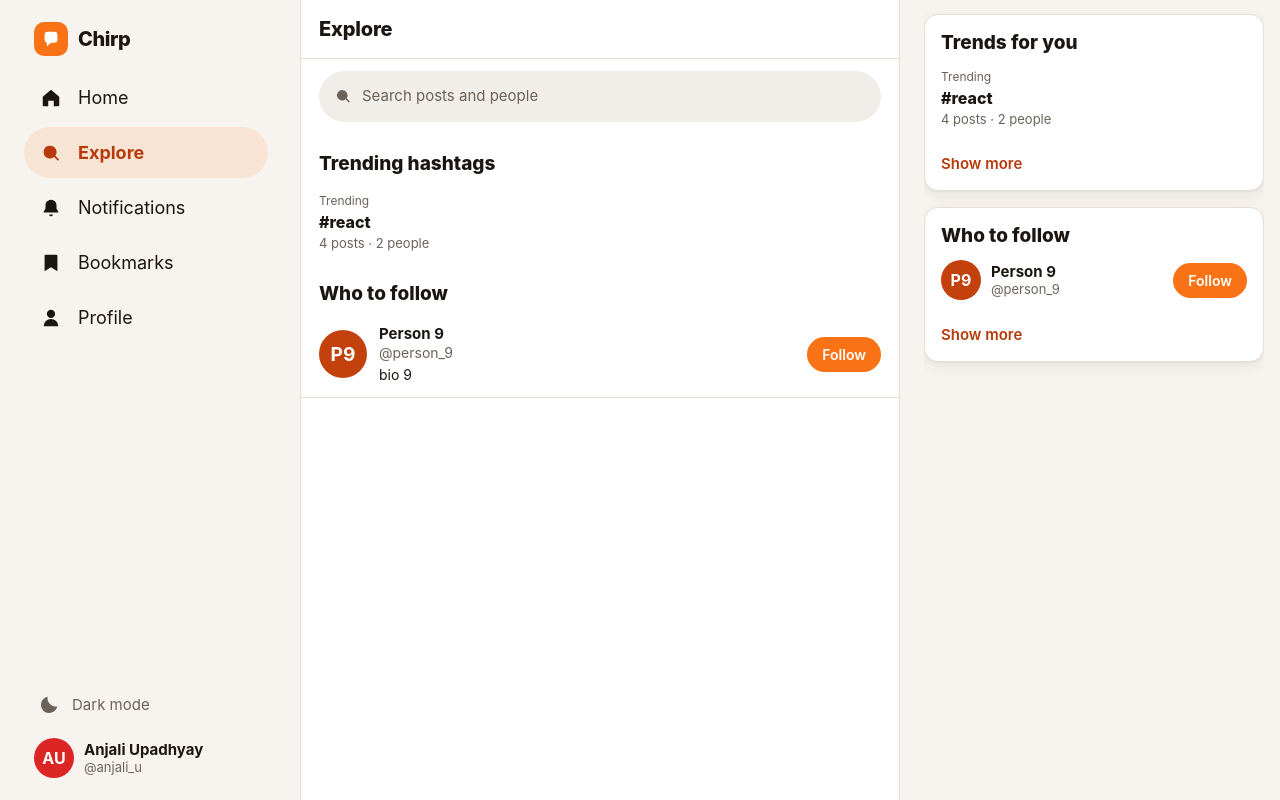
Test case: Explore › searches posts as you type, waiting for a pause (debounced) and using the final text
This screenshot has width=1280, height=800.
Type "react" into the search field named "search chirp".
click(617, 96); type("react")  # box [362,76,872,116]
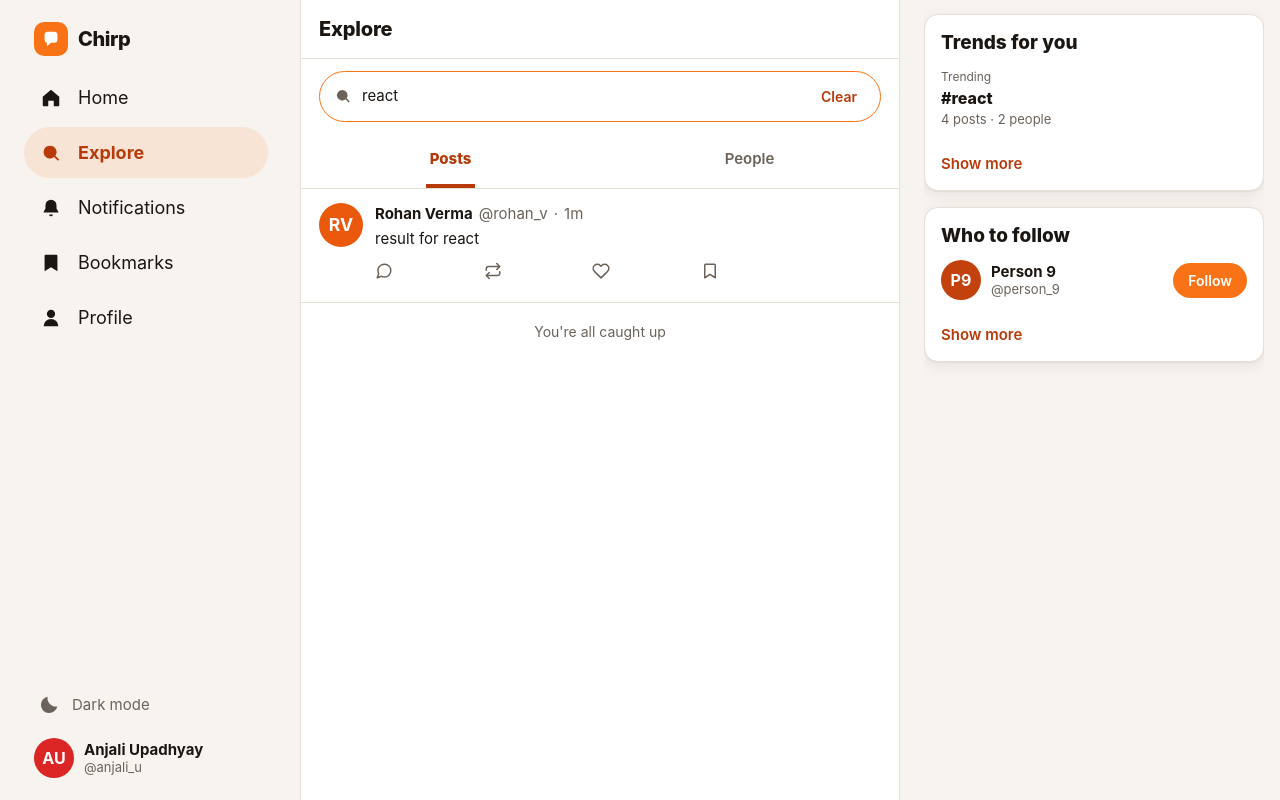
Check: the text "result for react" is shown, box [375,228,479,248]
